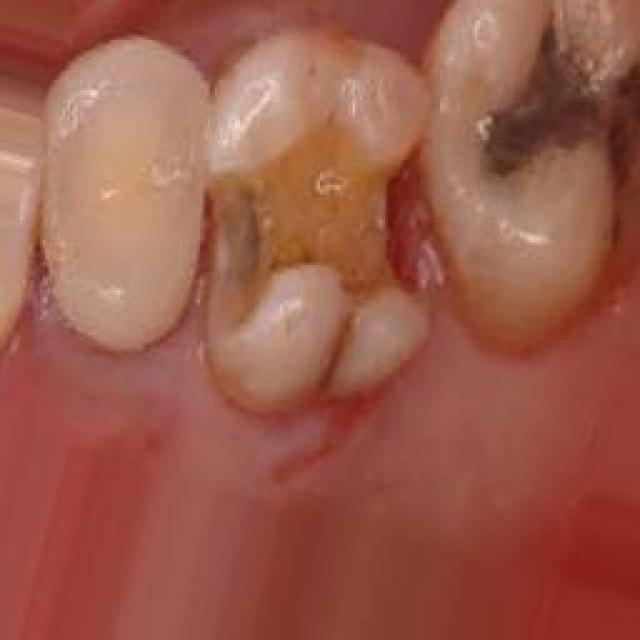decay: (213, 148, 405, 310), (480, 15, 635, 163)
